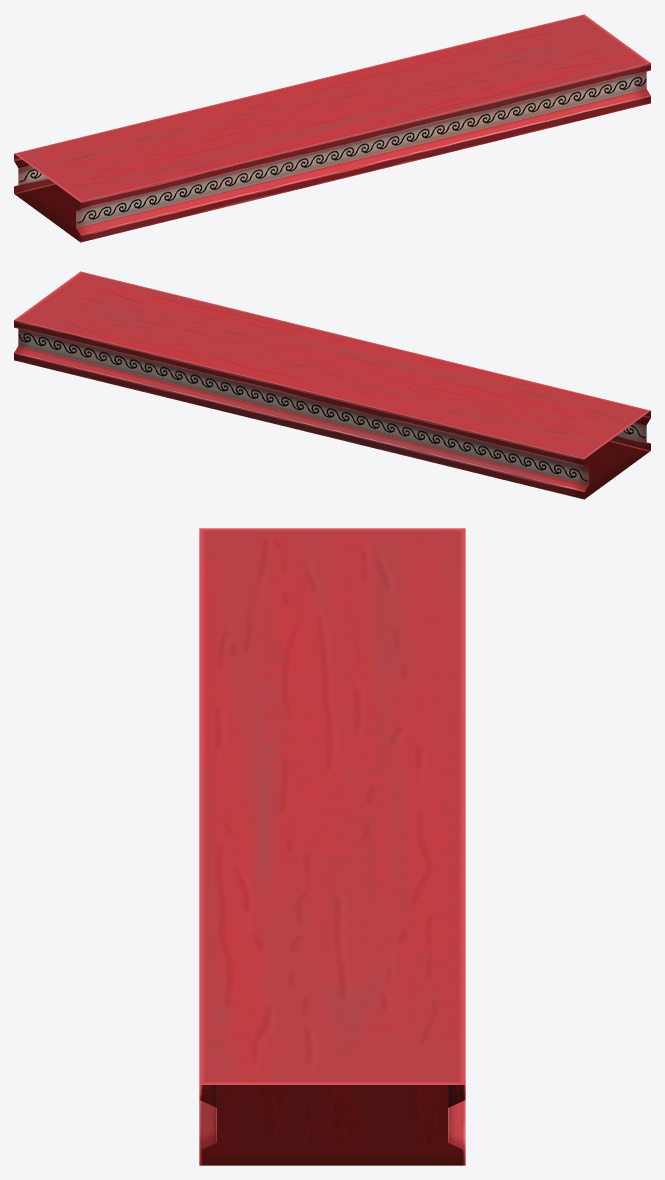
Rendered from em_ceiling_atrium_crossbeam_1.fbx.
The picture shows the model from 3 angles, top to bottom: view 1: azimuth 30°, elevation 25°; view 2: azimuth 150°, elevation 25°; view 3: azimuth 270°, elevation 25°; orthographic projection. The views are drawn at different scales.
Parts seen in each view (by area): view 1: em_ceiling_atrium_crossbeam_1; view 2: em_ceiling_atrium_crossbeam_1; view 3: em_ceiling_atrium_crossbeam_1.
Boxes of the visible parts, bbox=[...] form: em_ceiling_atrium_crossbeam_1: bbox=[14, 14, 650, 242]; em_ceiling_atrium_crossbeam_1: bbox=[14, 271, 650, 499]; em_ceiling_atrium_crossbeam_1: bbox=[199, 528, 465, 1165].
Bounding box in the file's own units: 14.84 × 1 × 3.
